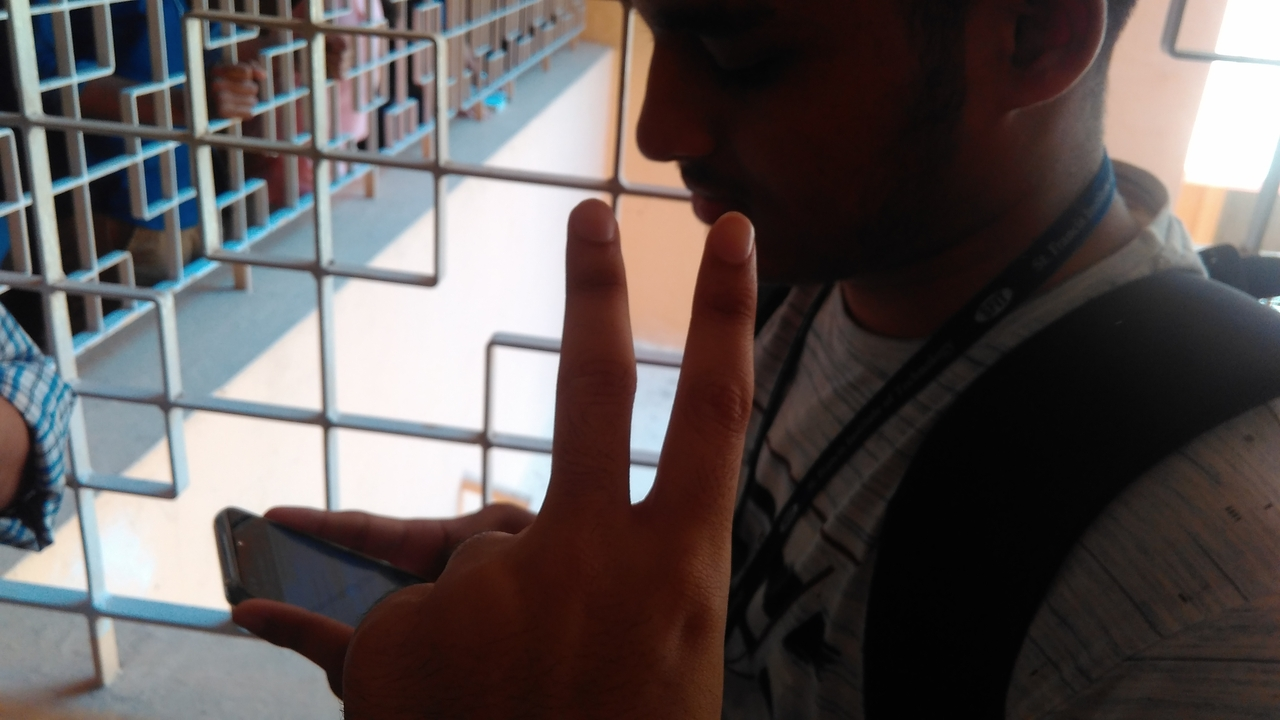fingertip: (560, 192, 622, 254), (698, 206, 758, 268)
